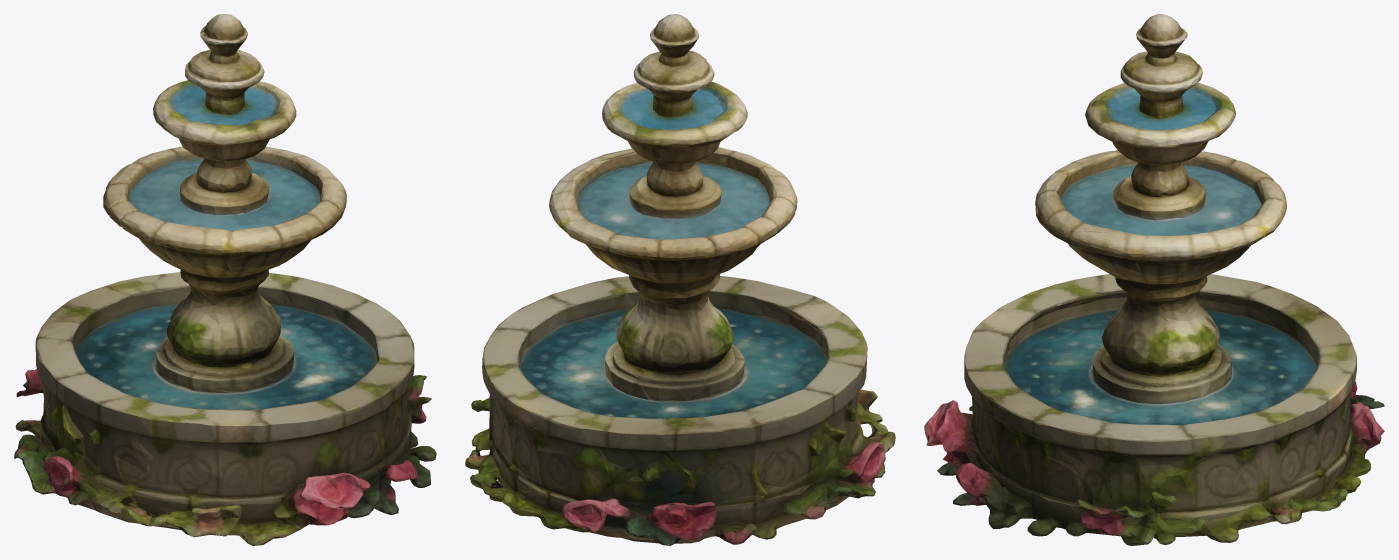
3 views of the same model, side by side, from view 1: azimuth 30°, elevation 25°; view 2: azimuth 150°, elevation 25°; view 3: azimuth 270°, elevation 25° (orthographic). The views are drawn at different scales.
Parts seen in each view (by area): view 1: world; view 2: world; view 3: world.
Part boxes in pixels (x1,y1,x2,y2): world: (14,14,436,545); world: (465,14,895,545); world: (924,14,1384,545).
Bounding box in the file's own units: 0.9001 × 0.9987 × 0.9206.
1 material, 1 textured.
